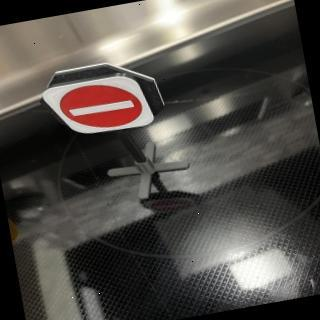sign_noentry: (41, 70, 159, 146)
